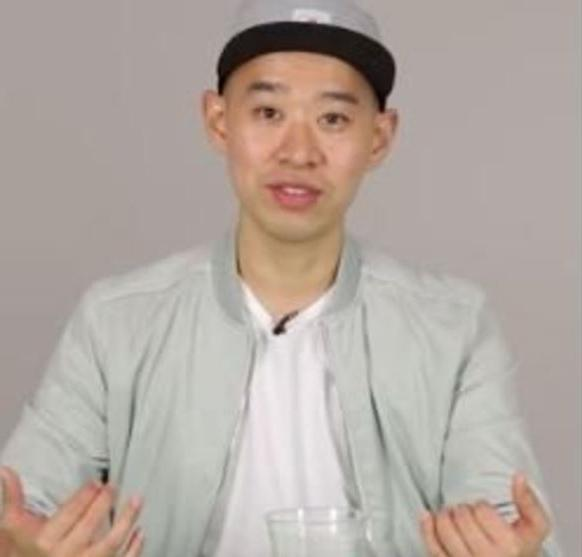Sober: (224, 63, 364, 232)
